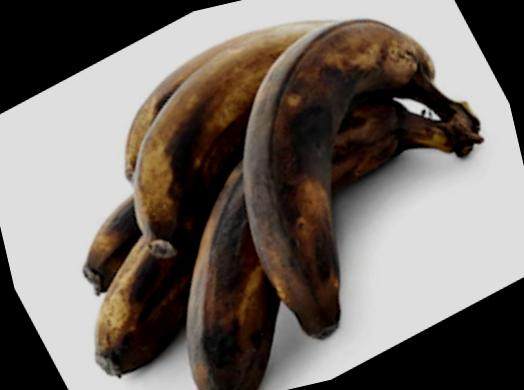Banana Overripe: (3, 0, 524, 390)
